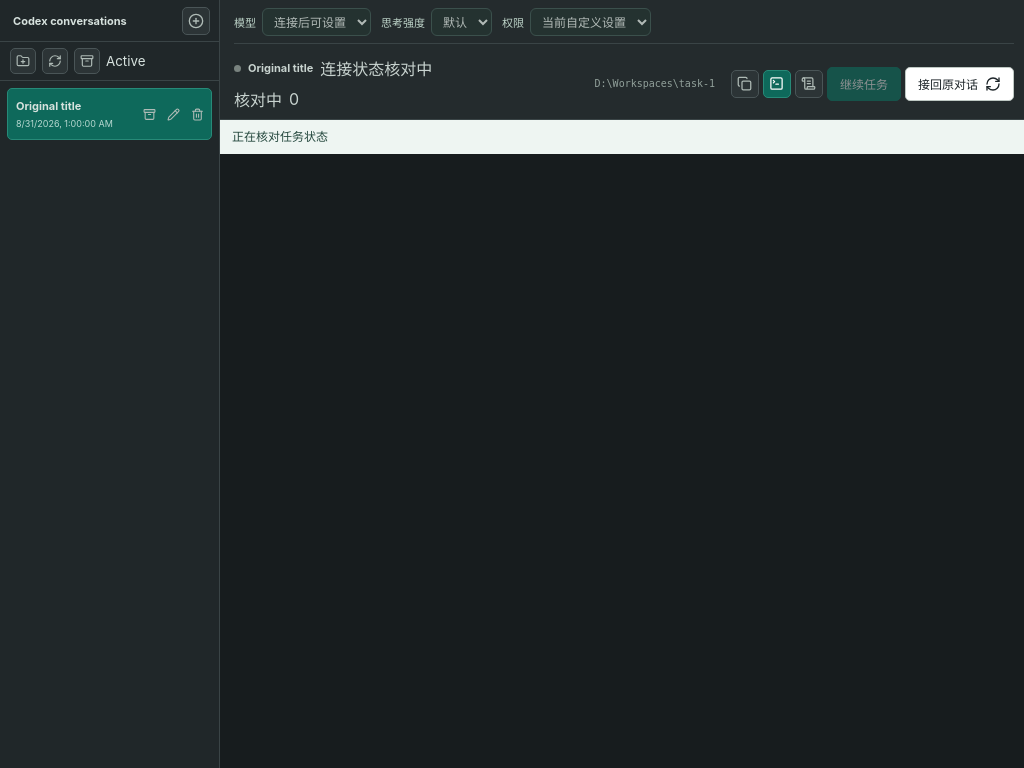
Scenario: Codex conversation list › copies persisted history while the terminal is stopped and shows success
This screenshot has width=1024, height=768.
Expected: the button titled "Reconnect terminal" is shown, left=905, top=66, right=1014, bottom=100
Click the button named "Copy all conversation history" at (745, 84), box left=731, top=70, right=759, bottom=98
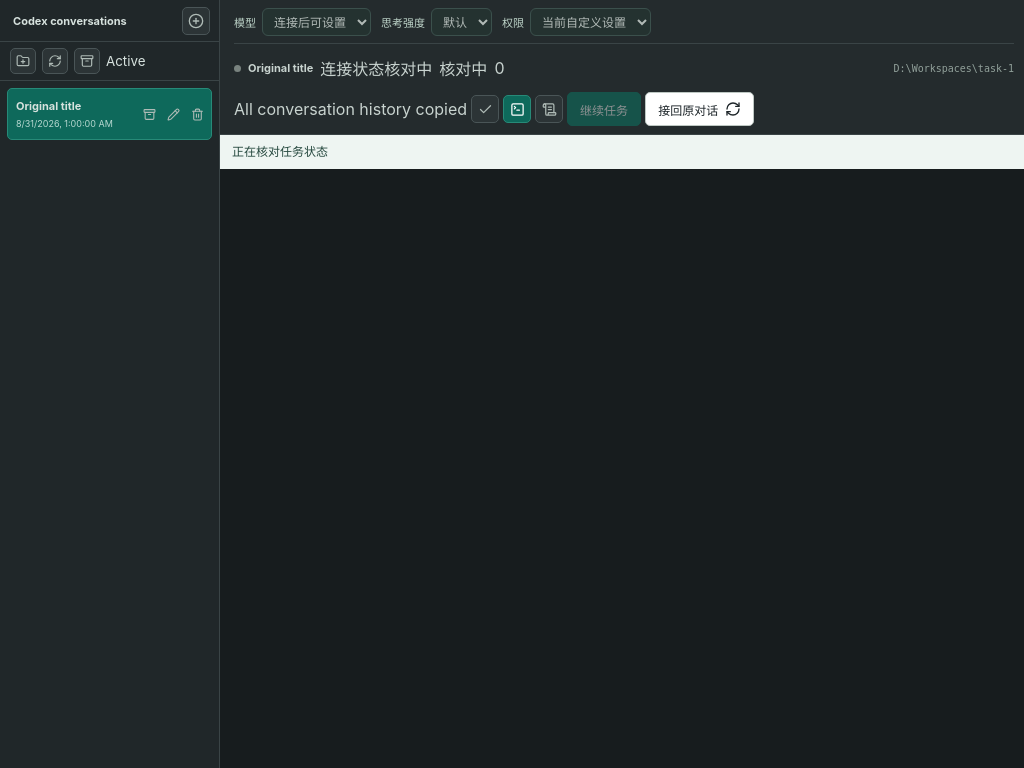
Expected: the text "All conversation history copied" is shown, left=234, top=99, right=467, bottom=119
